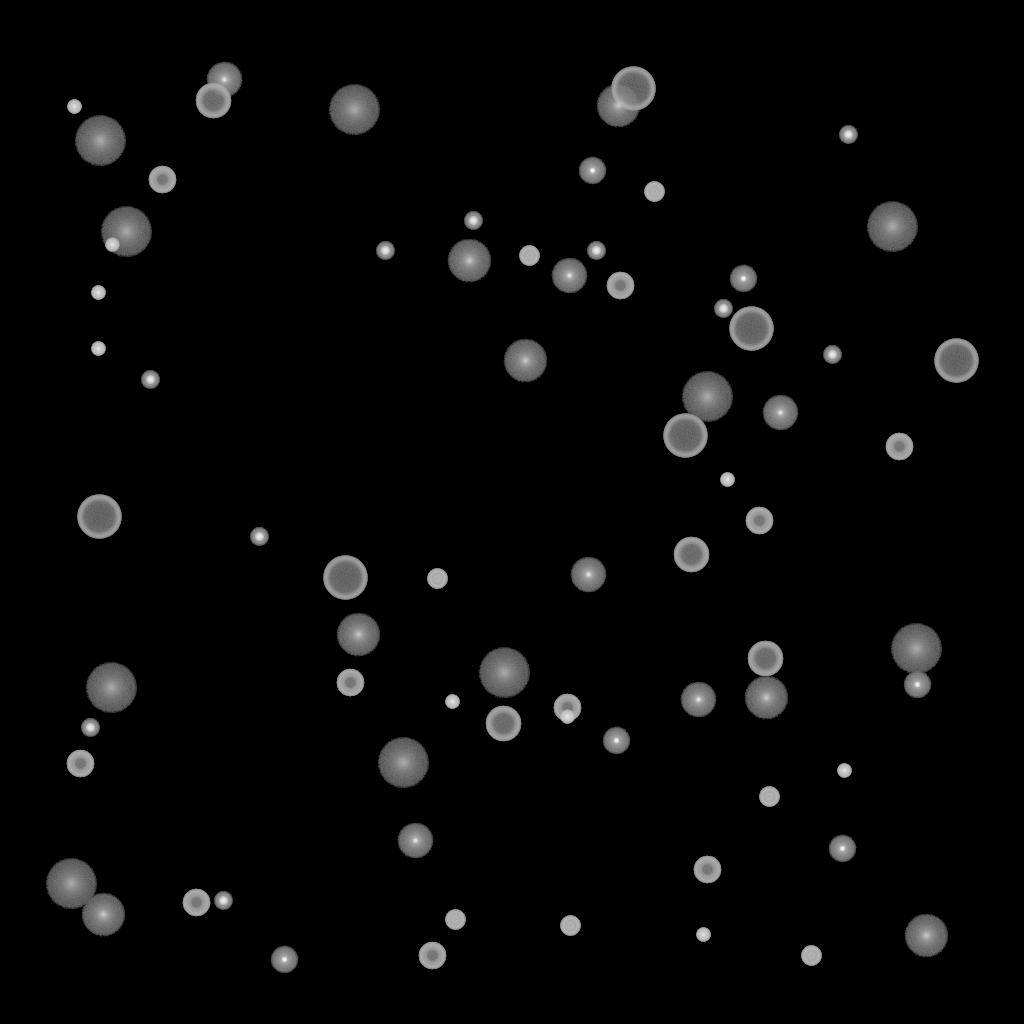depth:-10: (602, 727, 630, 755), (270, 946, 298, 974), (729, 265, 757, 293), (903, 671, 931, 699), (578, 157, 606, 185), (828, 835, 856, 863)
depth:-20: (587, 242, 605, 260), (714, 300, 732, 318), (464, 212, 482, 230), (376, 242, 394, 260), (250, 528, 268, 546), (839, 126, 857, 144), (823, 346, 841, 364), (214, 892, 232, 910), (141, 371, 159, 389), (81, 719, 99, 737)
depth:-30: (91, 342, 105, 356), (91, 286, 105, 300), (105, 238, 119, 252), (445, 695, 459, 709), (720, 473, 734, 487), (696, 928, 710, 942), (837, 764, 851, 778), (560, 710, 574, 724), (67, 100, 81, 114)
depth:-40: (644, 182, 664, 202), (759, 787, 779, 807), (427, 569, 447, 589), (801, 946, 821, 966), (445, 910, 465, 930), (560, 916, 580, 936), (519, 246, 539, 266)
depth:-50: (693, 856, 721, 884), (336, 669, 364, 697), (418, 942, 446, 970), (885, 433, 913, 461), (182, 889, 210, 917), (745, 507, 773, 535), (148, 166, 176, 194), (606, 272, 634, 300), (553, 694, 581, 722), (66, 750, 94, 778)
depth:-60: (195, 83, 231, 119), (485, 706, 521, 742), (673, 537, 709, 573), (747, 641, 783, 677)
depth:-70: (323, 556, 367, 600), (934, 339, 978, 383), (663, 414, 707, 458), (611, 67, 655, 111), (729, 307, 773, 351), (77, 495, 121, 539)
depth:0: (551, 258, 587, 294), (397, 823, 433, 859), (680, 682, 716, 718), (762, 395, 798, 431), (206, 62, 242, 98), (570, 557, 606, 593)
depth:10: (81, 893, 125, 937), (744, 676, 788, 720), (336, 613, 380, 657), (596, 84, 640, 128), (447, 239, 491, 283), (904, 914, 948, 958), (503, 339, 547, 383)
depth:20: (890, 624, 942, 674), (328, 85, 380, 135), (100, 207, 152, 257), (85, 663, 137, 713), (681, 372, 733, 422), (478, 648, 530, 698), (74, 116, 126, 166), (45, 859, 97, 909), (866, 202, 918, 252), (377, 738, 429, 788)
